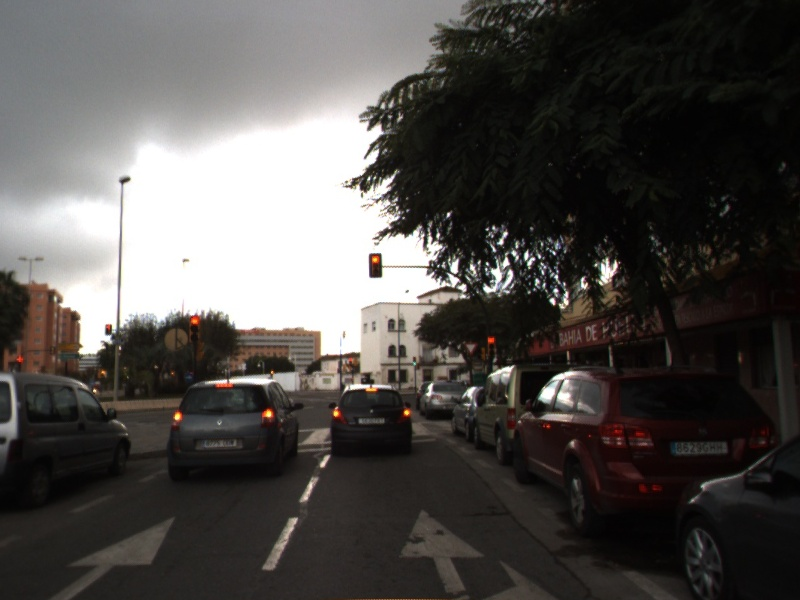STRAIGHT: (47, 514, 178, 600)
STRAIGHT_RIGHT: (397, 507, 561, 600)
